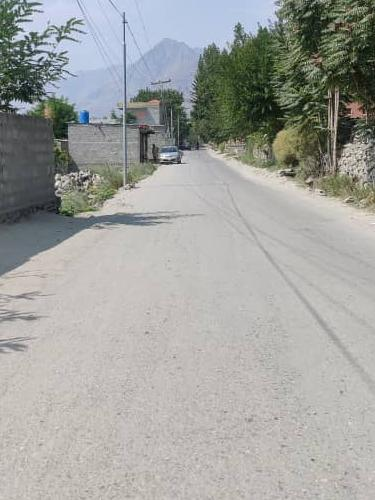sharp_turn: (88, 122, 333, 500)
